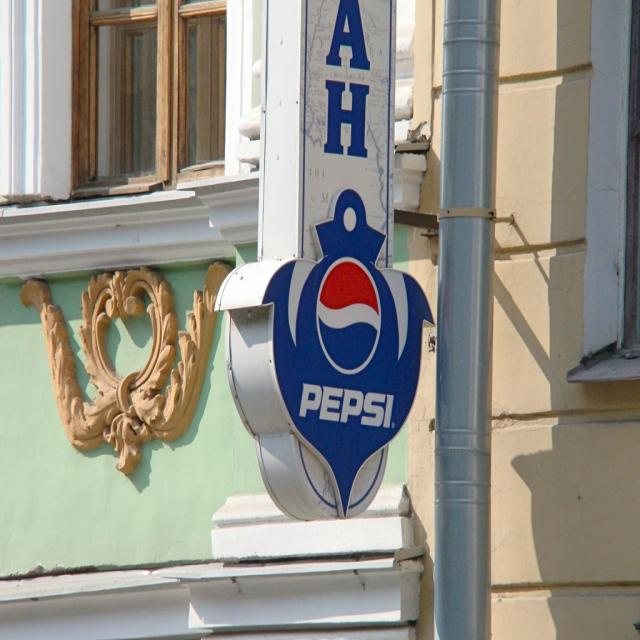pepsi: (315, 258, 384, 376)
